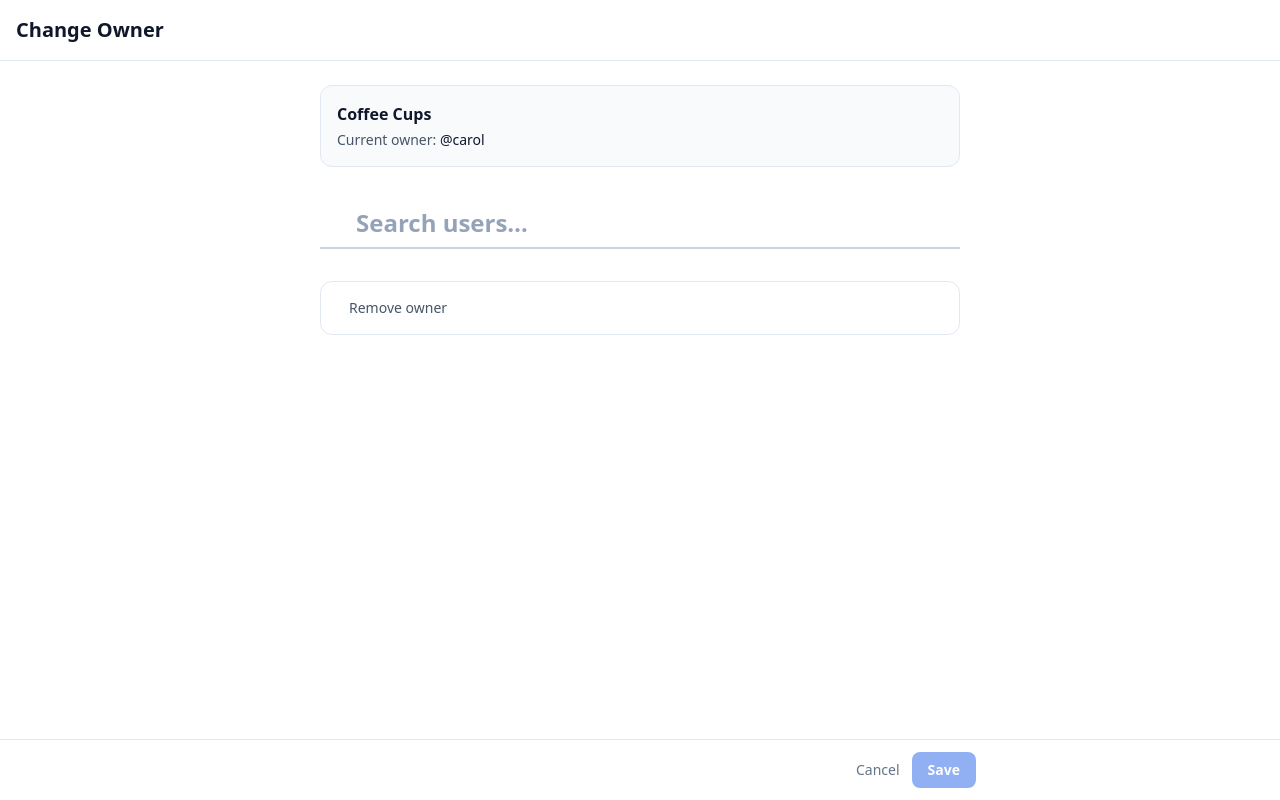
Test: ChangeOwnerOverlay › shows the server error and stays open when saving fails
Click the button "Remove owner".
click(398, 308)  # box [320,281,960,335]
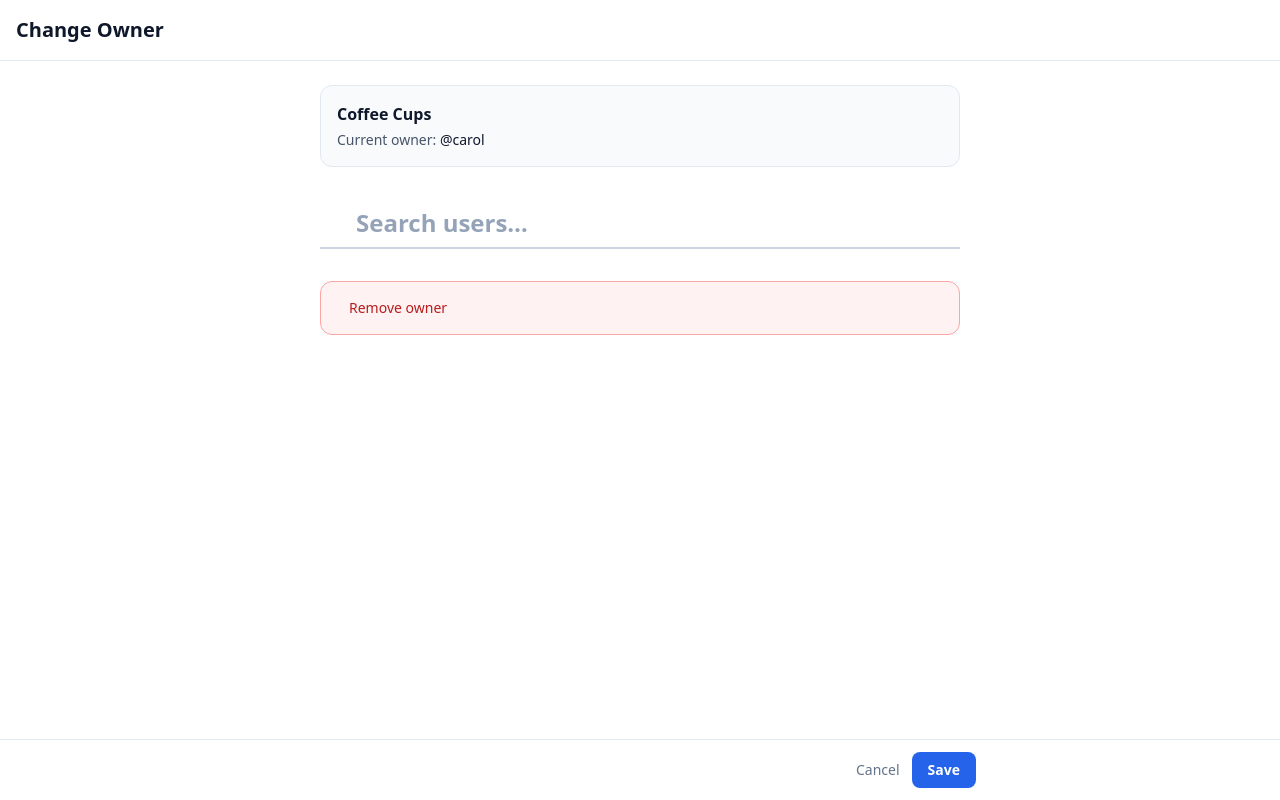
Click the button "Save".
click(944, 770)  # box [912,752,976,788]
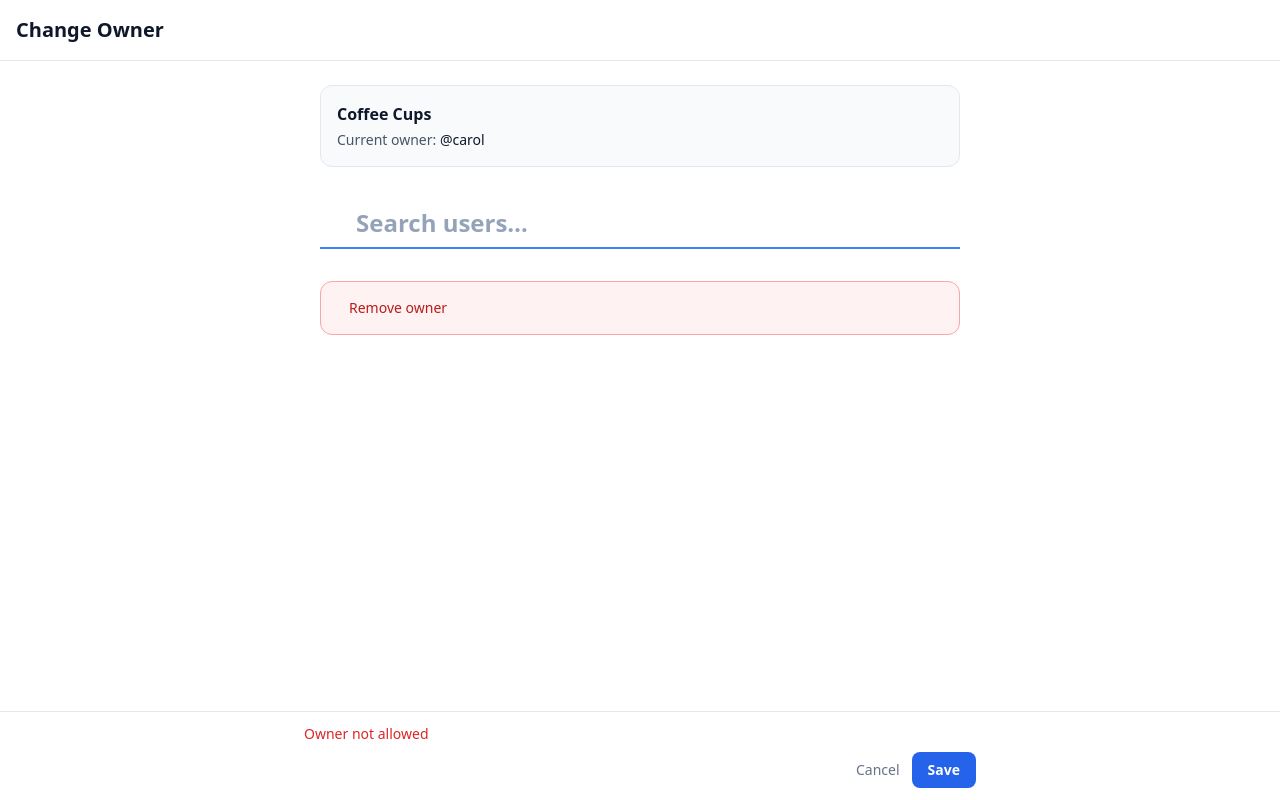
Expected: the message reads "Owner not allowed", [304,724,428,743]
